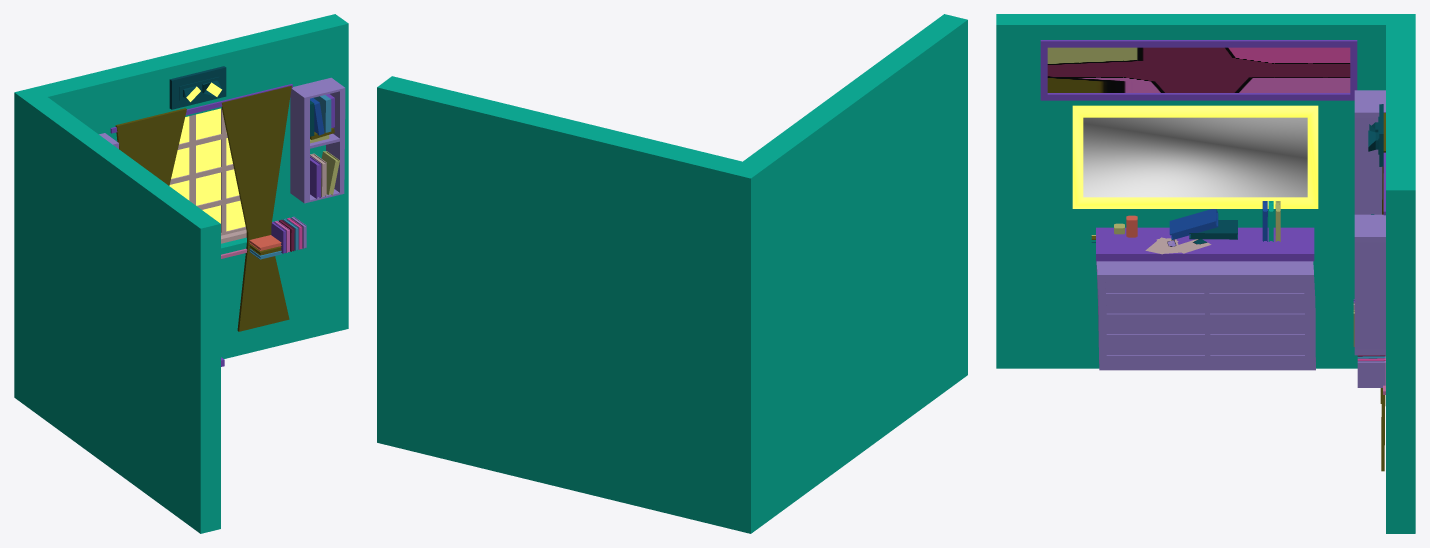
File: Side2 Room.fbx
The picture shows the model from 3 angles, left to right: view 1: azimuth 30°, elevation 25°; view 2: azimuth 150°, elevation 25°; view 3: azimuth 270°, elevation 25°; orthographic projection. The views are drawn at different scales.
Visible parts, largest first — view 1: Side1; view 2: Side1; view 3: Side1.
Boxes of the visible parts, x1,y1,x2,y2 form: Side1: (14, 14, 348, 533); Side1: (377, 14, 967, 533); Side1: (996, 14, 1415, 533).
Size of the model in its own units: 213 by 193 by 214.
